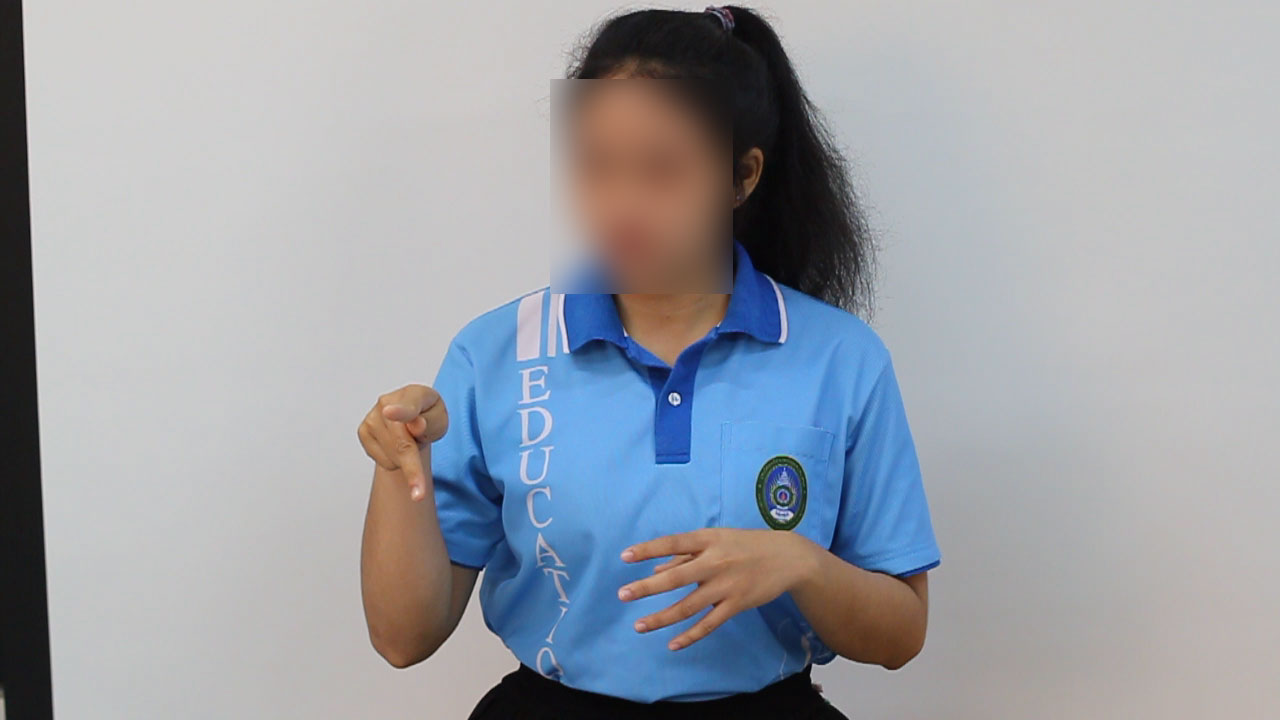por: (344, 367, 462, 512)
